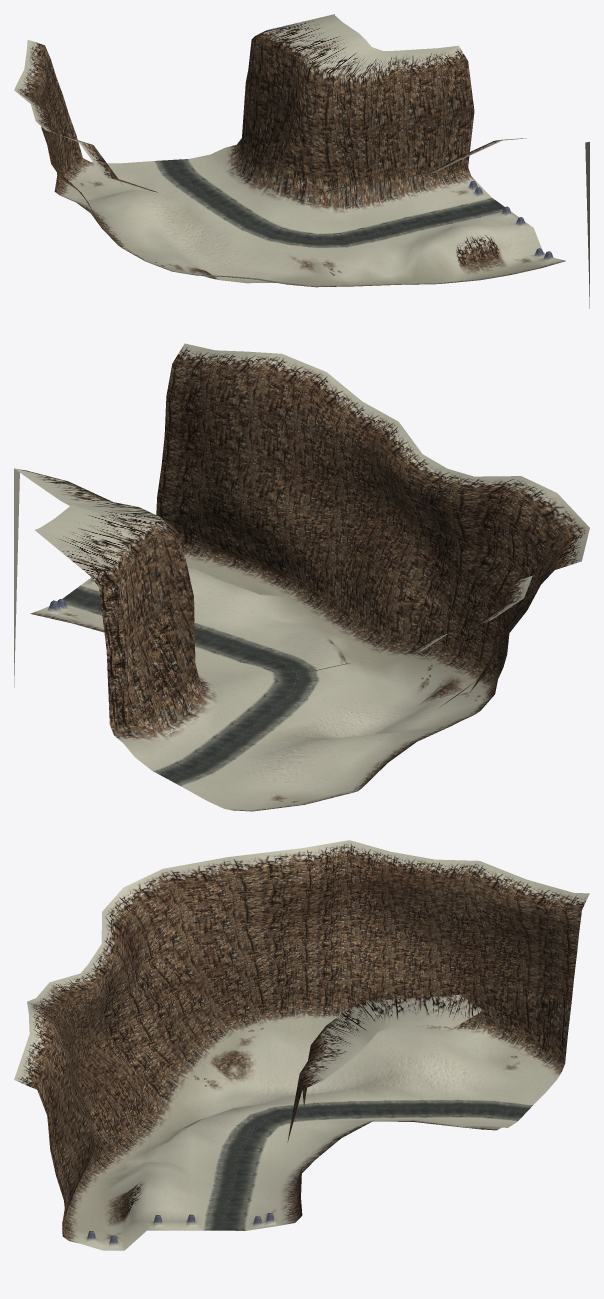
The picture shows the model from 3 angles, top to bottom: view 1: azimuth 30°, elevation 25°; view 2: azimuth 150°, elevation 25°; view 3: azimuth 270°, elevation 25°; orthographic projection. The views are drawn at different scales.
Parts seen in each view (by area): view 1: M09_Z01_02075, M09_Z01_02077, M09_Z01_02087, M09_Z01_02076, M09_Z01_02108, M09_Z01_02086, M09_Z01_02074, M09_Z01_02078, M09_Z01_02099, M09_Z01_02098, M09_Z01_02024, M09_Z01_02100 (+60 smaller); view 2: M09_Z01_02011, M09_Z01_02010, M09_Z01_02012, M09_Z01_02009, M09_Z01_02013, M09_Z01_02118, M09_Z01_02018, M09_Z01_02108, M09_Z01_02008, M09_Z01_02017, M09_Z01_02004, M09_Z01_02099 (+65 smaller); view 3: M09_Z01_02067, M09_Z01_02122, M09_Z01_02102, M09_Z01_02112, M09_Z01_02041, M09_Z01_02054, M09_Z01_02079, M09_Z01_02018, M09_Z01_02091, M09_Z01_02080, M09_Z01_02092, M09_Z01_02029 (+80 smaller).
Part boxes in pixels (x1=…): M09_Z01_02075: x1=331, y1=68, x2=410, y2=209; M09_Z01_02077: x1=392, y1=45, x2=476, y2=191; M09_Z01_02087: x1=296, y1=61, x2=363, y2=206; M09_Z01_02076: x1=366, y1=63, x2=445, y2=201; M09_Z01_02108: x1=237, y1=39, x2=278, y2=185; M09_Z01_02086: x1=262, y1=81, x2=337, y2=216; M09_Z01_02074: x1=302, y1=91, x2=375, y2=223; M09_Z01_02078: x1=434, y1=46, x2=476, y2=183; M09_Z01_02099: x1=274, y1=33, x2=358, y2=115; M09_Z01_02098: x1=250, y1=103, x2=289, y2=197; M09_Z01_02024: x1=452, y1=230, x2=503, y2=276; M09_Z01_02100: x1=286, y1=22, x2=371, y2=65; M09_Z01_02011: x1=244, y1=391, x2=312, y2=596; M09_Z01_02010: x1=290, y1=419, x2=345, y2=610; M09_Z01_02012: x1=190, y1=374, x2=265, y2=588; M09_Z01_02009: x1=332, y1=419, x2=385, y2=594; M09_Z01_02013: x1=158, y1=402, x2=227, y2=574; M09_Z01_02118: x1=106, y1=571, x2=172, y2=757; M09_Z01_02018: x1=421, y1=476, x2=509, y2=617; M09_Z01_02108: x1=126, y1=553, x2=202, y2=730; M09_Z01_02008: x1=376, y1=421, x2=422, y2=578; M09_Z01_02017: x1=453, y1=476, x2=534, y2=595; M09_Z01_02004: x1=165, y1=343, x2=246, y2=475; M09_Z01_02099: x1=71, y1=506, x2=180, y2=619; M09_Z01_02067: x1=241, y1=868, x2=347, y2=1020; M09_Z01_02122: x1=480, y1=880, x2=566, y2=1051; M09_Z01_02102: x1=389, y1=869, x2=480, y2=996; M09_Z01_02112: x1=433, y1=861, x2=527, y2=1000; M09_Z01_02041: x1=170, y1=877, x2=251, y2=975; M09_Z01_02054: x1=207, y1=896, x2=305, y2=1022; M09_Z01_02079: x1=303, y1=840, x2=390, y2=942; M09_Z01_02018: x1=97, y1=919, x2=163, y2=1076; M09_Z01_02091: x1=348, y1=840, x2=431, y2=942; M09_Z01_02080: x1=302, y1=938, x2=388, y2=1018; M09_Z01_02092: x1=348, y1=915, x2=435, y2=1006; M09_Z01_02029: x1=138, y1=886, x2=205, y2=987.
Bounding box in the file's own units: 99.25 × 44.66 × 104.
17 materials, 17 textured.
